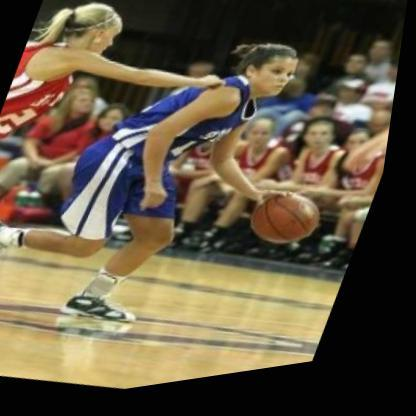basketball: (240, 183, 342, 273)
